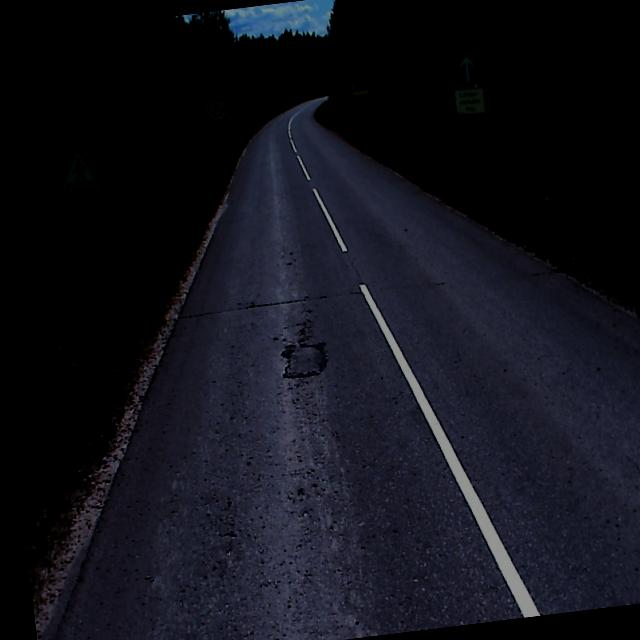road: (54, 95, 640, 640)
